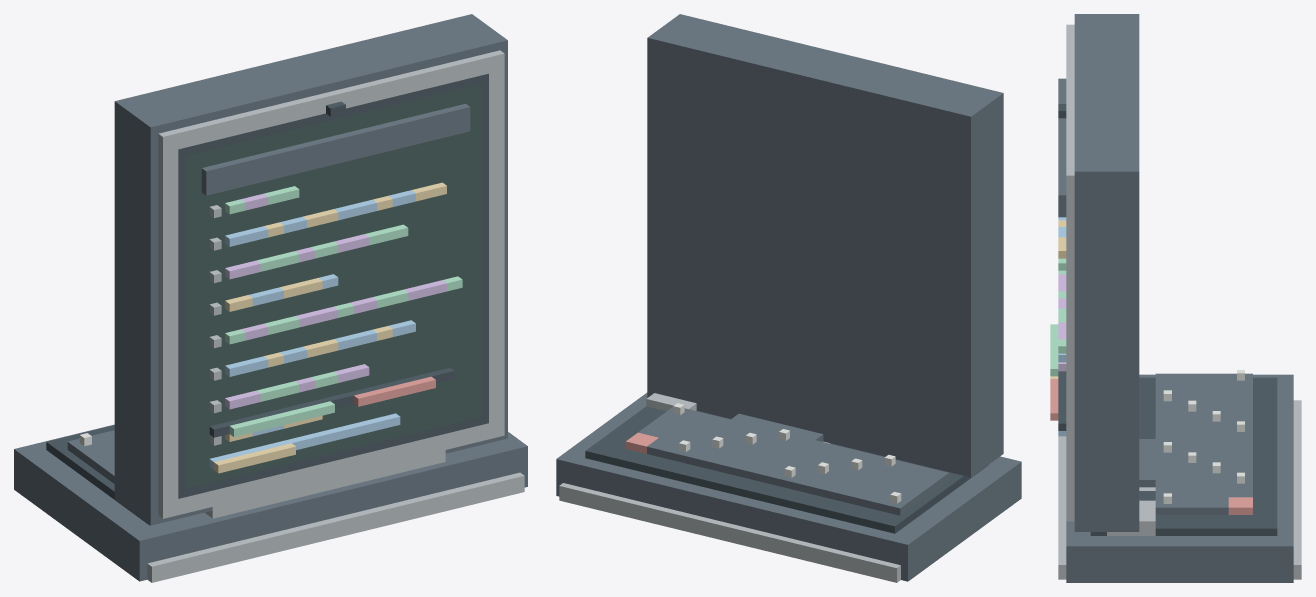
Rendered from projet-codewars.glb.
3 views of the same model, side by side, from view 1: azimuth 30°, elevation 25°; view 2: azimuth 150°, elevation 25°; view 3: azimuth 270°, elevation 25° (orthographic). The views are drawn at different scales.
Parts seen in each view (by area): view 1: Dark editor glass, Dark anodized laptop chassis, Machined silver rim, Keyboard and display bezel, Syntax blue, Syntax mint, Syntax amber, Syntax violet, Kata result red; view 2: Dark anodized laptop chassis, Keyboard and display bezel, Machined silver rim, Keycap legends; view 3: Dark anodized laptop chassis, Machined silver rim, Keyboard and display bezel, Keycap legends, Syntax mint, Kata result red, Syntax violet.
Part boxes in pixels (bbox=[...]): Dark editor glass: bbox=[186, 84, 481, 488]; Dark anodized laptop chassis: bbox=[14, 14, 527, 581]; Machined silver rim: bbox=[147, 50, 524, 582]; Keyboard and display bezel: bbox=[46, 73, 488, 525]; Syntax blue: bbox=[209, 190, 415, 469]; Syntax mint: bbox=[225, 186, 462, 436]; Syntax amber: bbox=[214, 182, 446, 473]; Syntax violet: bbox=[225, 193, 446, 409]; Kata result red: bbox=[353, 376, 435, 406]; Dark anodized laptop chassis: bbox=[556, 14, 1021, 581]; Keyboard and display bezel: bbox=[585, 406, 988, 533]; Machined silver rim: bbox=[559, 393, 900, 582]; Keycap legends: bbox=[673, 403, 901, 503]; Dark anodized laptop chassis: bbox=[1058, 14, 1293, 582]; Machined silver rim: bbox=[1058, 24, 1301, 579]; Keyboard and display bezel: bbox=[1058, 104, 1277, 535]; Keycap legends: bbox=[1163, 370, 1244, 503]; Syntax mint: bbox=[1050, 258, 1066, 376]; Kata result red: bbox=[1050, 379, 1252, 514]; Syntax violet: bbox=[1058, 274, 1066, 371].
Bounding box in the file's own units: 1.65 × 1.81 × 1.02.
